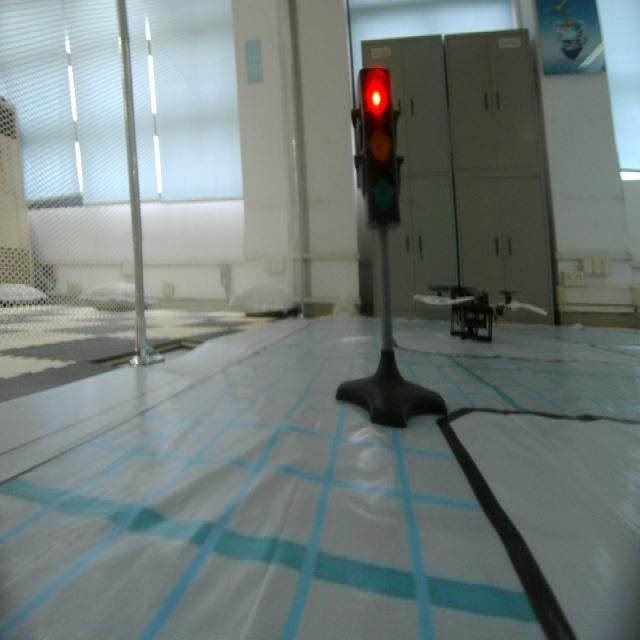red: (354, 63, 406, 239)
